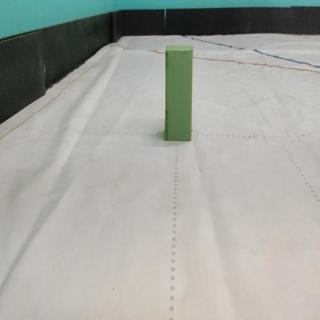greenbox: (163, 45, 194, 141)
